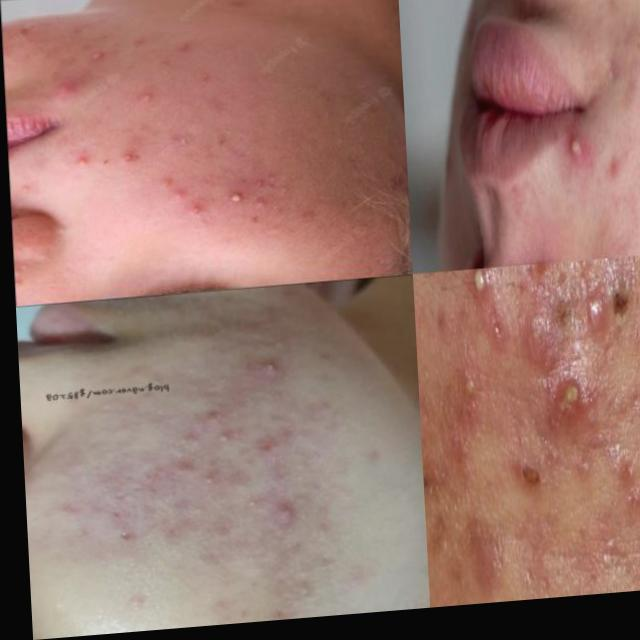8: (516, 301, 561, 370), (574, 273, 609, 361), (43, 69, 86, 107), (260, 500, 295, 533), (158, 183, 195, 205)
9: (441, 348, 473, 413), (558, 131, 590, 186), (454, 276, 491, 323), (63, 149, 96, 173), (110, 144, 145, 166), (218, 188, 247, 214), (80, 46, 112, 68), (136, 91, 156, 110)
blackheads: (532, 374, 594, 443), (598, 44, 625, 119), (592, 162, 631, 203), (594, 0, 632, 8)
